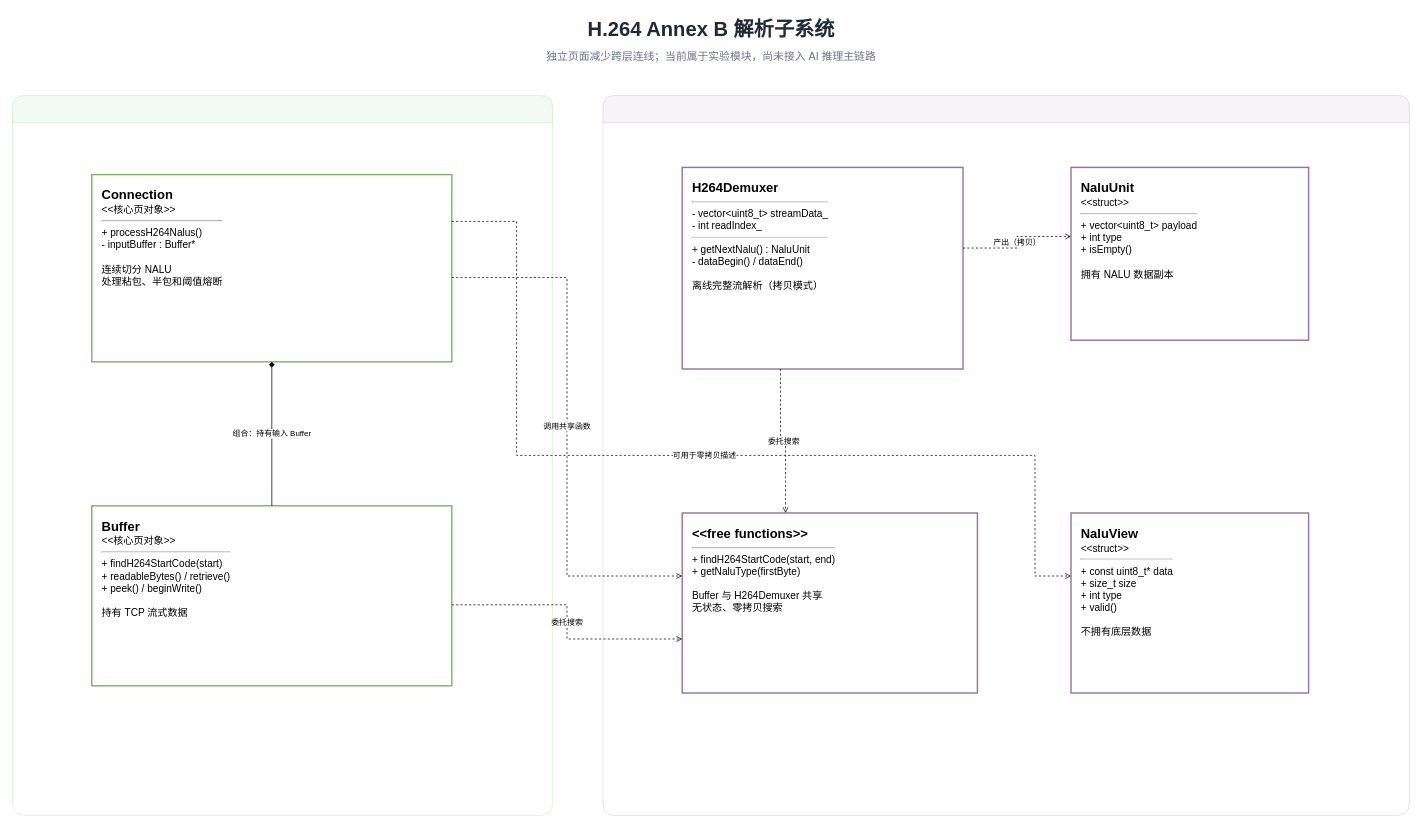
Image size: 1422x828. Some labels were removed from this diagram. The shapes that lost their labels are listed below. From the top down, each one's box as (x1, y1, x2, y2) in pixels, then its label:
(12, 95, 553, 815): 在线流式路径（Connection + Buffer）
(602, 95, 1409, 815): H.264 解析组件
